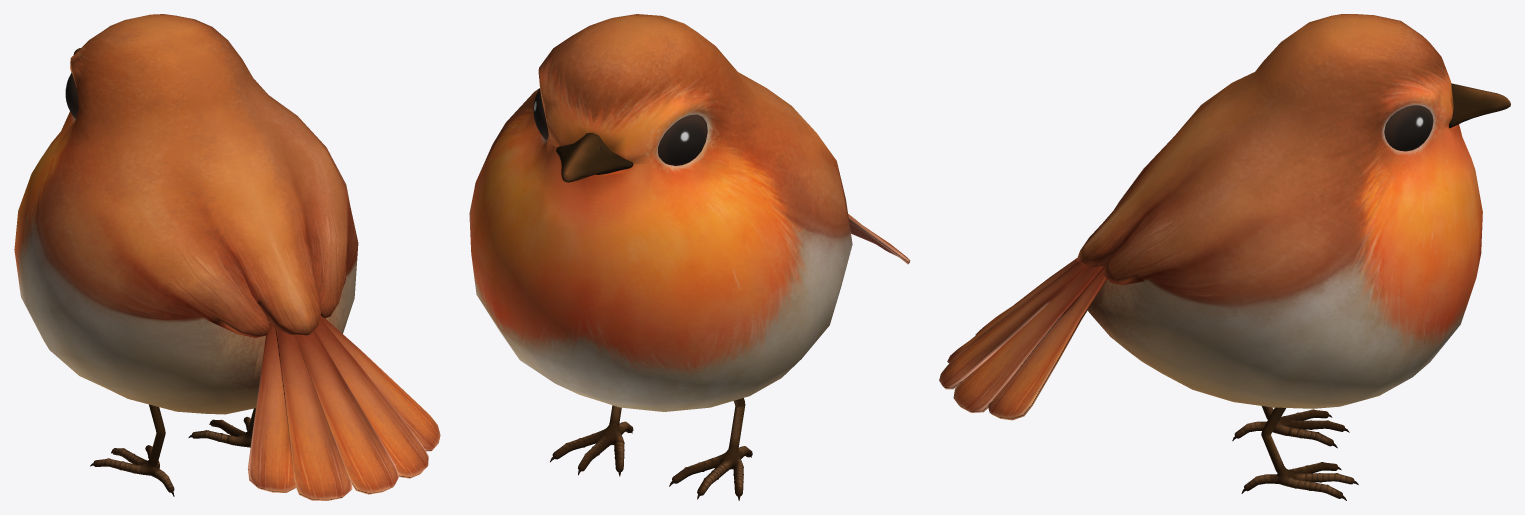
The model's file is bird.dae.
3 views of the same model, side by side, from view 1: azimuth 30°, elevation 25°; view 2: azimuth 150°, elevation 25°; view 3: azimuth 270°, elevation 25° (orthographic). The views are drawn at different scales.
Parts seen in each view (by area): view 1: BirdOrange; view 2: BirdOrange; view 3: BirdOrange.
Part boxes in pixels (x1,y1,x2,y2): BirdOrange: (14,14,440,500); BirdOrange: (469,14,910,500); BirdOrange: (939,14,1510,500).
Bounding box in the file's own units: 2.38 × 3.78 × 3.2.
1 material, 1 textured.
